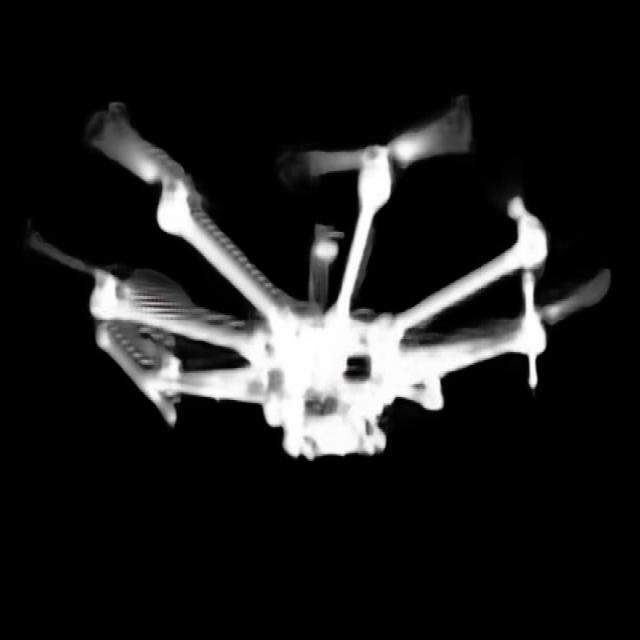drone: (16, 86, 624, 462)
